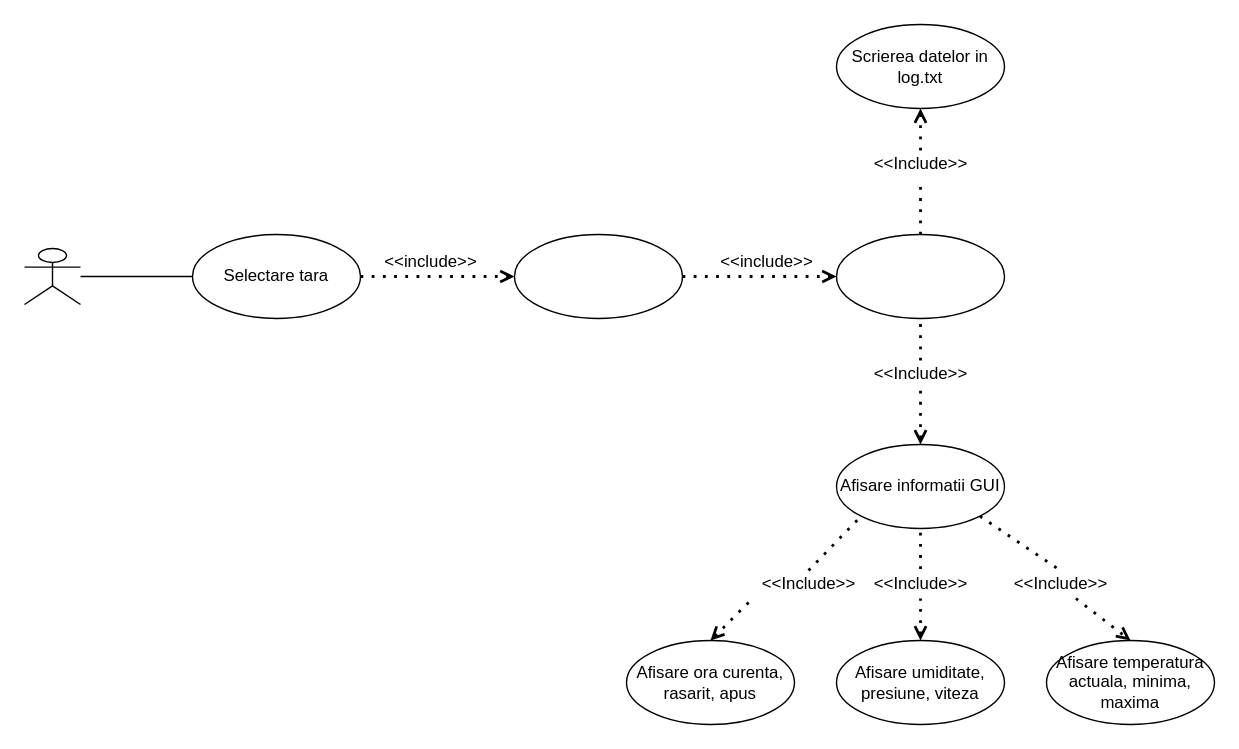
The diagram is 1239 pixels wide and 749 high, and some of its shapes have lost their labels. Each missing label, with the centre of its shape:
"Actor" belongs at point (51, 275).
"Obtinerea datelor pentru orasul selectat" belongs at point (919, 275).
"Selectare oras" belongs at point (597, 275).
